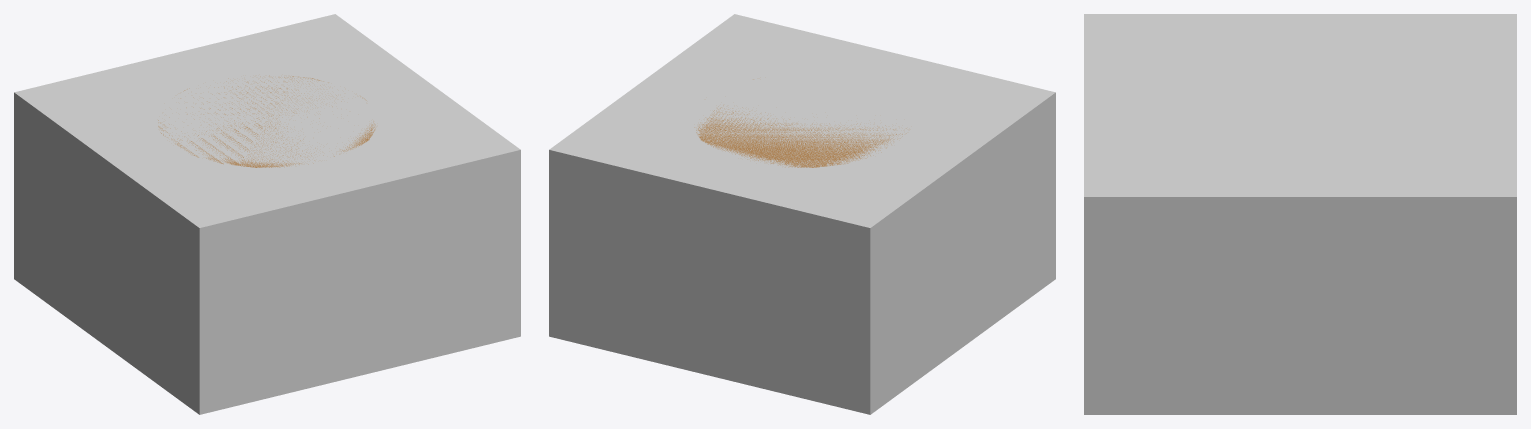
The model's file is recessed-light_retail.glb.
3 renders of one model, left to right at view 1: azimuth 30°, elevation 25°; view 2: azimuth 150°, elevation 25°; view 3: azimuth 270°, elevation 25°, orthographic. The views are drawn at different scales.
Visible parts, largest first — view 1: COL_recessed-light, MESH_CeilingCanopy; view 2: COL_recessed-light, MESH_CeilingCanopy; view 3: COL_recessed-light.
Boxes of the visible parts, x1,y1,x2,y2 form: COL_recessed-light: (14, 14, 520, 414); MESH_CeilingCanopy: (158, 75, 375, 167); COL_recessed-light: (549, 14, 1055, 414); MESH_CeilingCanopy: (694, 79, 906, 167); COL_recessed-light: (1084, 14, 1516, 414).
Bounding box in the file's own units: 0.18 × 0.1 × 0.18.
